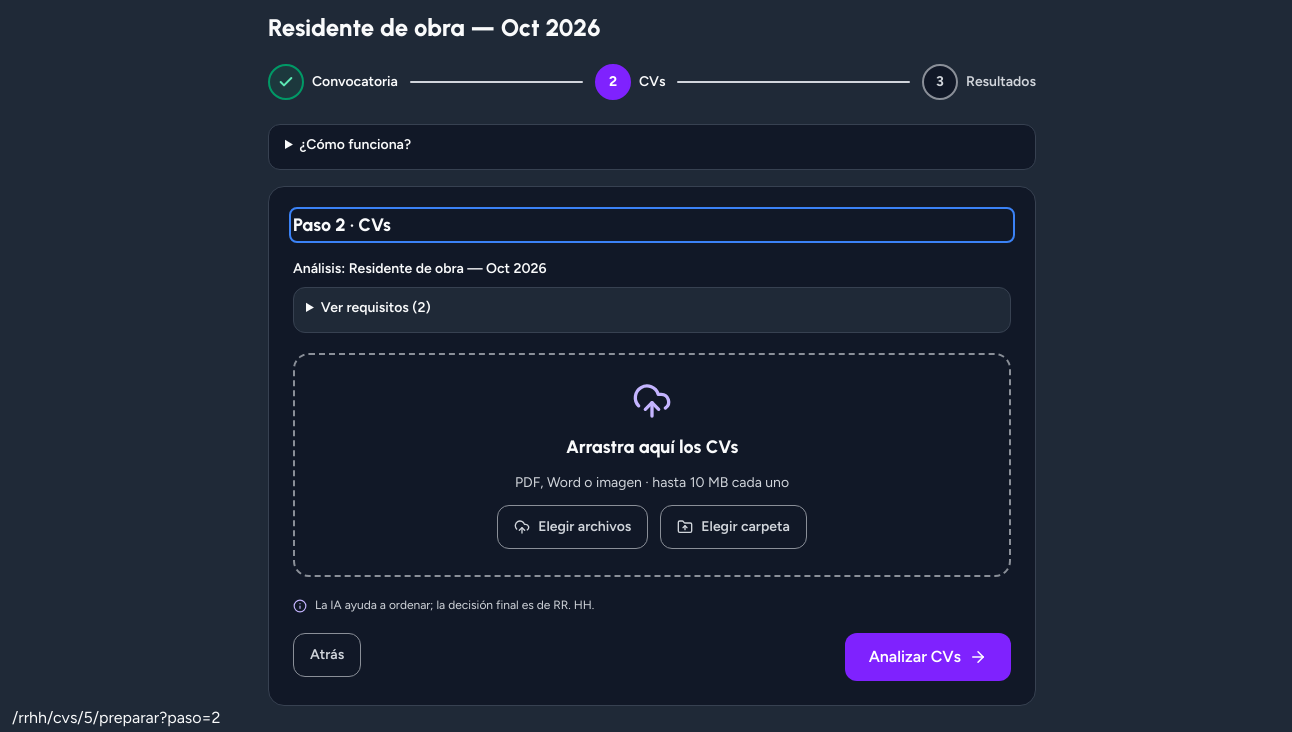
Scenario: Paso 2 — archivos › sin archivos, el botón principal enfoca el dropzone con "Primero agrega al menos un CV."
Click the button "Analizar CVs" at (928, 657), box [845,633,1011,681]
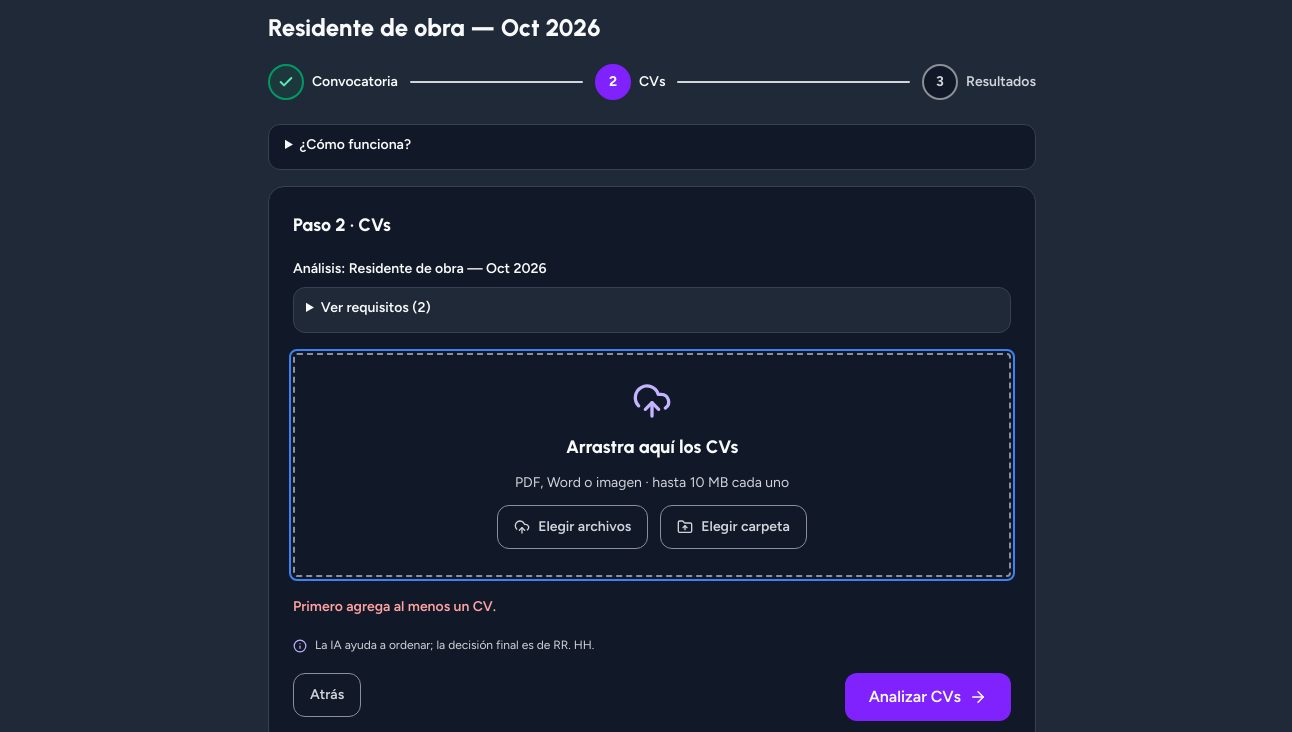
Now the text "Primero agrega al menos un CV." is shown, box [293,598,496,615]
